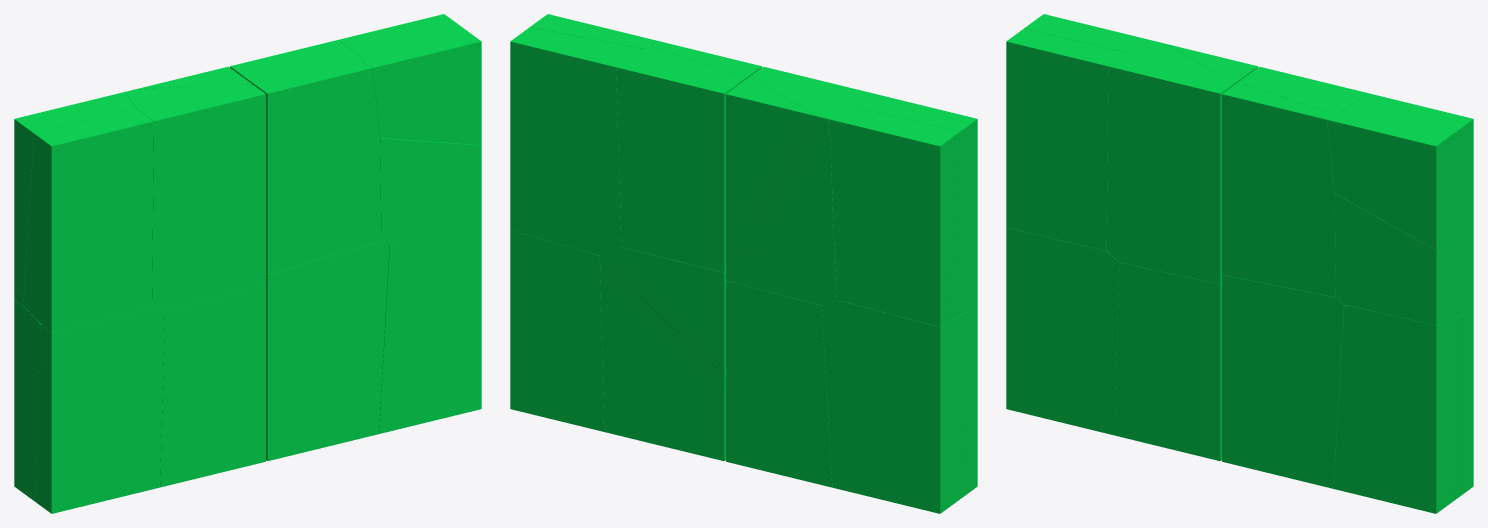
The model's file is BreakableWall3.fbx.
3 renders of one model, left to right at view 1: azimuth 30°, elevation 25°; view 2: azimuth 150°, elevation 25°; view 3: azimuth 330°, elevation 25°, orthographic.
Parts seen in each view (by area): view 1: Cube.060_cell.001, Cube.060_cell.005, Cube.060_cell, Cube.059_cell, Cube.059_cell.001, Cube.059_cell.004, Cube.060_cell.004, Cube.059_cell.007, Cube.059_cell.005, Cube.060_cell.003, Cube.060_cell.002, Cube.059_cell.003 (+1 smaller); view 2: Cube.060_cell.002, Cube.060_cell.003, Cube.059_cell.007, Cube.059_cell.003, Cube.060_cell.006, Cube.059_cell.006, Cube.059_cell.002, Cube.060_cell.005, Cube.060_cell.007, Cube.059_cell, Cube.060_cell.001, Cube.060_cell (+2 smaller); view 3: Cube.060_cell.005, Cube.059_cell.004, Cube.059_cell, Cube.059_cell.001, Cube.060_cell.001, Cube.060_cell, Cube.060_cell.004, Cube.059_cell.007, Cube.059_cell.005, Cube.059_cell.003, Cube.059_cell.006, Cube.060_cell.003 (+1 smaller).
Boxes of the visible parts, <box> form: Cube.060_cell.001: <box>23,107,153,331</box>; Cube.060_cell.005: <box>125,84,265,311</box>; Cube.060_cell: <box>35,307,164,513</box>; Cube.059_cell: <box>266,241,389,461</box>; Cube.059_cell.001: <box>252,63,381,274</box>; Cube.059_cell.004: <box>379,220,481,433</box>; Cube.060_cell.004: <box>160,284,265,487</box>; Cube.059_cell.007: <box>338,14,481,244</box>; Cube.059_cell.005: <box>362,28,481,145</box>; Cube.060_cell.003: <box>14,92,134,305</box>; Cube.060_cell.002: <box>14,300,41,501</box>; Cube.059_cell.003: <box>230,40,363,83</box>; Cube.060_cell.002: <box>821,300,967,513</box>; Cube.060_cell.003: <box>829,108,959,326</box>; Cube.059_cell.007: <box>510,27,642,255</box>; Cube.059_cell.003: <box>616,46,746,272</box>; Cube.060_cell.006: <box>726,280,832,487</box>; Cube.059_cell.006: <box>510,230,603,431</box>; Cube.059_cell.002: <box>600,261,725,461</box>; Cube.060_cell.005: <box>726,66,874,305</box>; Cube.060_cell.007: <box>726,77,816,271</box>; Cube.059_cell: <box>599,247,725,383</box>; Cube.060_cell.001: <box>857,94,977,320</box>; Cube.060_cell: <box>961,305,977,498</box>; Cube.060_cell.005: <box>1106,41,1234,283</box>; Cube.059_cell.004: <box>1333,305,1462,513</box>; Cube.059_cell: <box>1222,275,1344,488</box>; Cube.059_cell.001: <box>1222,83,1335,297</box>; Cube.060_cell.001: <box>1006,28,1126,250</box>; Cube.060_cell: <box>1006,227,1119,435</box>; Cube.060_cell.004: <box>1114,262,1221,461</box>; Cube.059_cell.007: <box>1334,93,1473,325</box>; Cube.059_cell.005: <box>1327,111,1453,249</box>; Cube.059_cell.003: <box>1238,66,1367,113</box>; Cube.059_cell.006: <box>1455,308,1473,499</box>; Cube.060_cell.003: <box>1024,14,1153,52</box>.
Size of the model in its own units: 544 by 445 by 82.4.
